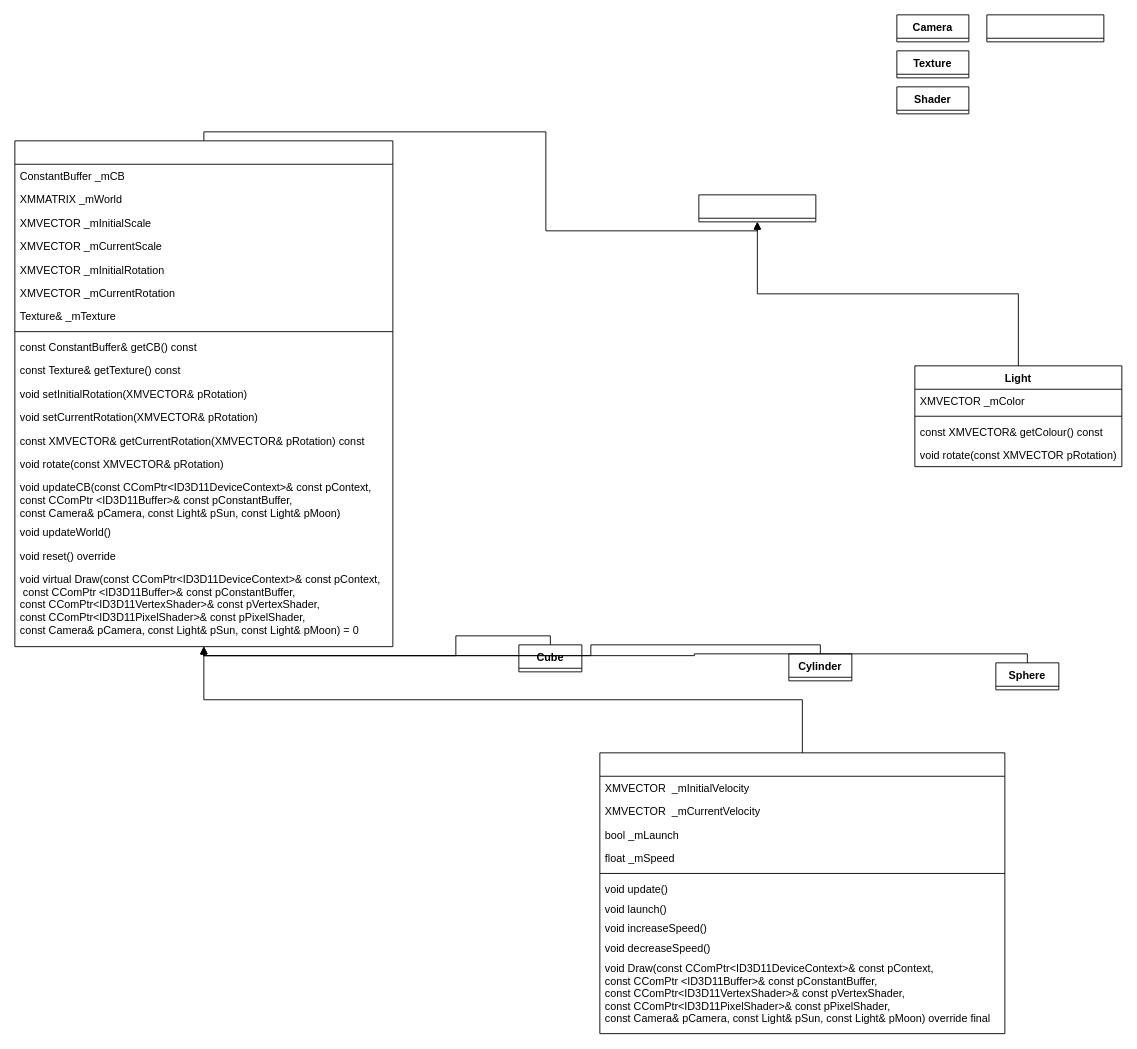
The diagram is 1137 pixels wide and 1049 high, and some of its shapes have lost their labels. The shapes that lost their labels are listed below. From the top down, each one's box as (x1, y1, x2, y2) in pixels, then its label:
(986, 14, 1104, 42): D3DFramework
(698, 194, 816, 222): GraphicalObject
(14, 140, 393, 647): Model
(599, 752, 1005, 1034): Rocket
